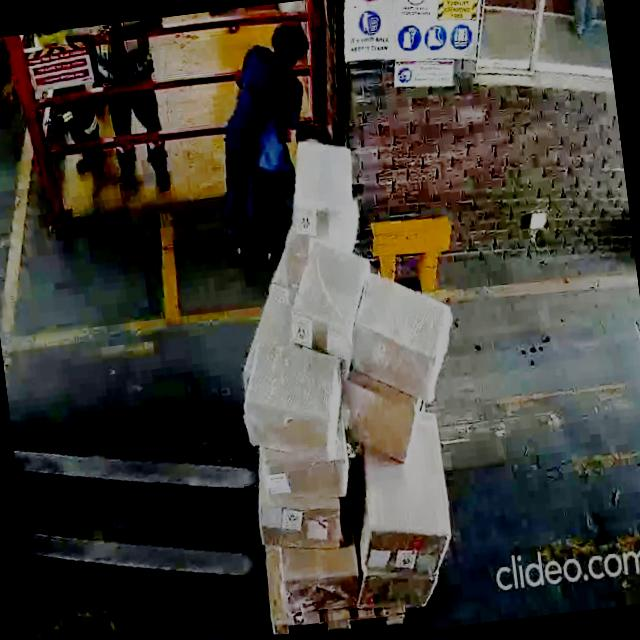Box: (234, 332, 348, 472), (349, 276, 456, 395), (358, 448, 454, 578), (284, 230, 358, 346), (340, 366, 420, 468), (284, 131, 360, 237), (280, 540, 366, 620), (258, 490, 348, 562), (260, 444, 352, 505), (358, 564, 441, 616)
